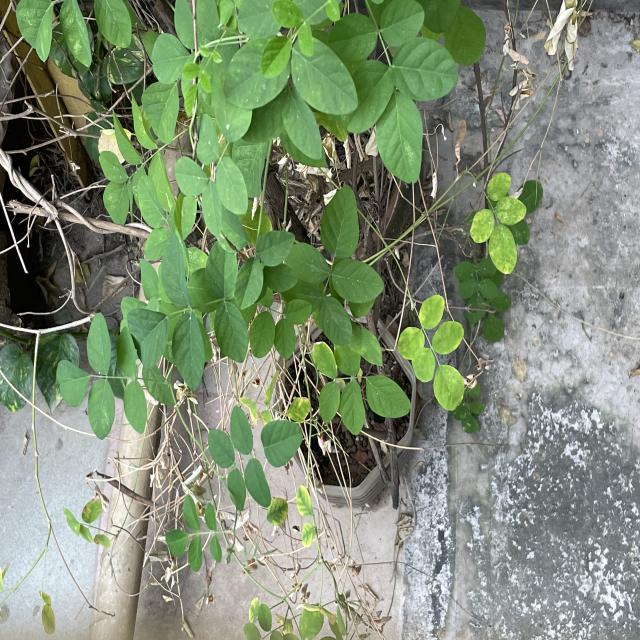Breeding Place: (284, 326, 417, 511)
